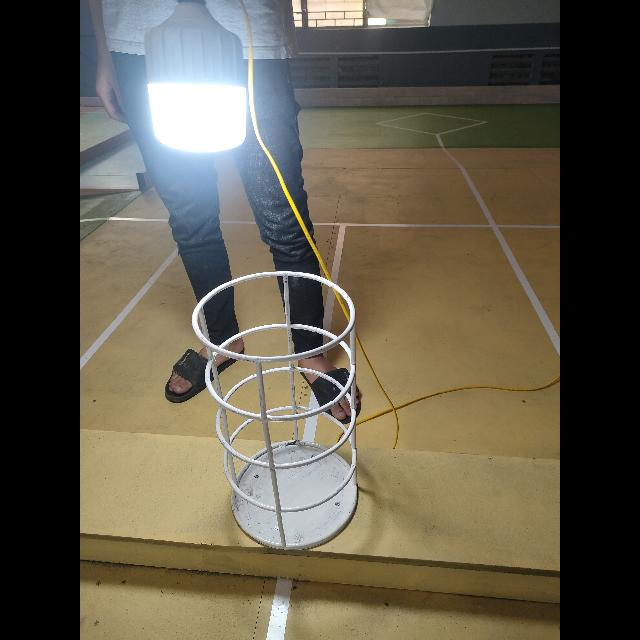S: (187, 268, 361, 553)
